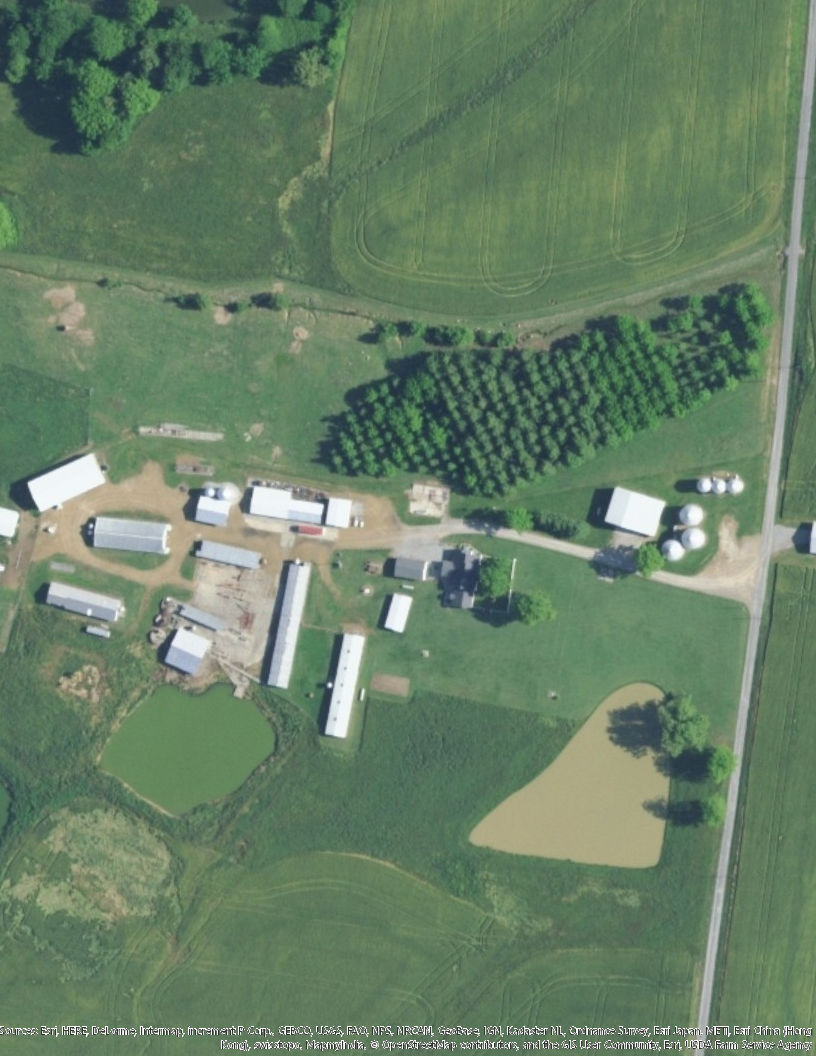cafo: (267, 562, 313, 690), (248, 482, 353, 534), (27, 451, 109, 510), (324, 633, 367, 739), (44, 578, 127, 625), (93, 513, 174, 555)
